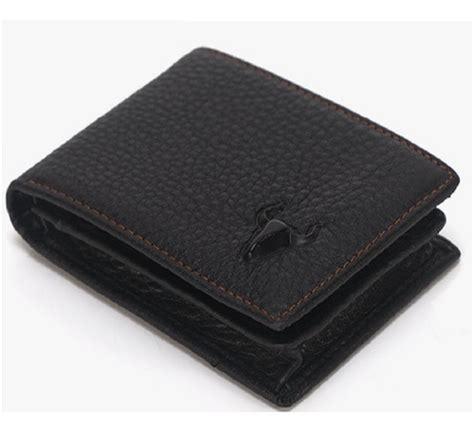cuero: (5, 45, 462, 409)
